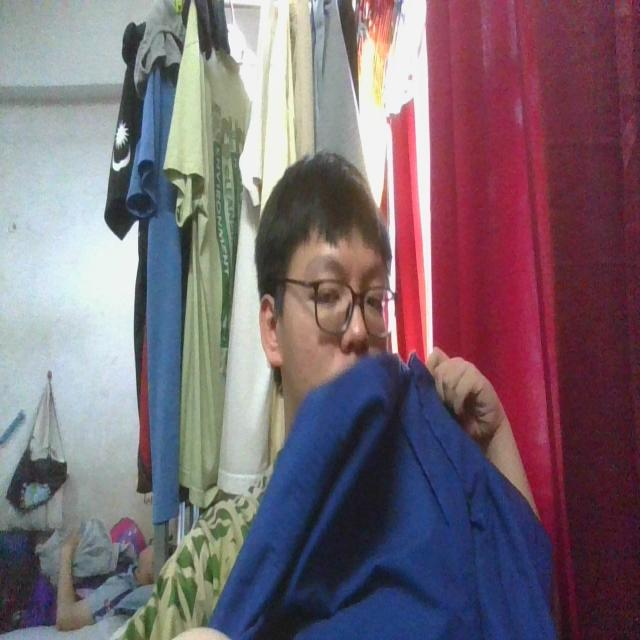person_without_labcoat: (120, 153, 556, 639)
